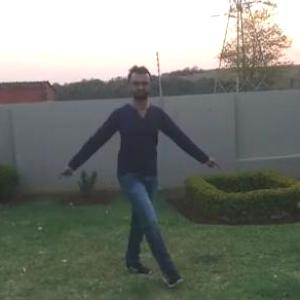land: (81, 74, 195, 241)
